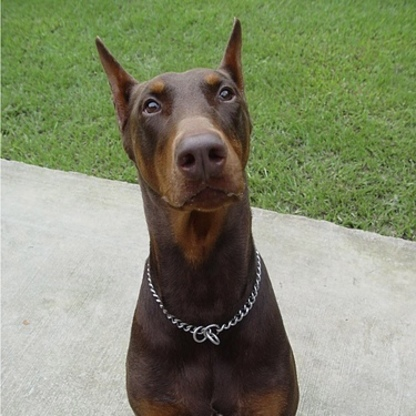doberman: (87, 19, 314, 416)
